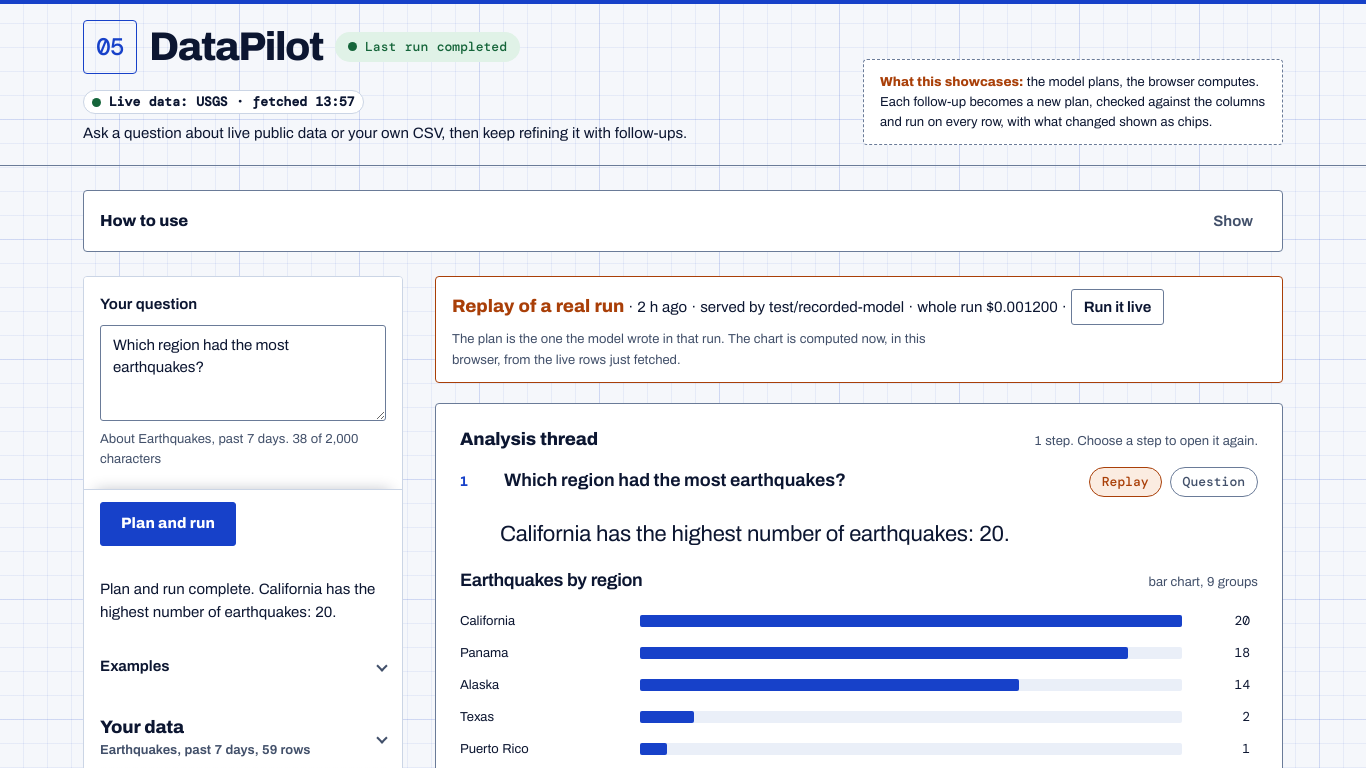
it: the load-time replay › Run it live clears the replay and makes a real request
Click the button "Run it live". click: (1118, 307)
box: [1071, 289, 1164, 325]
(page scrolled)
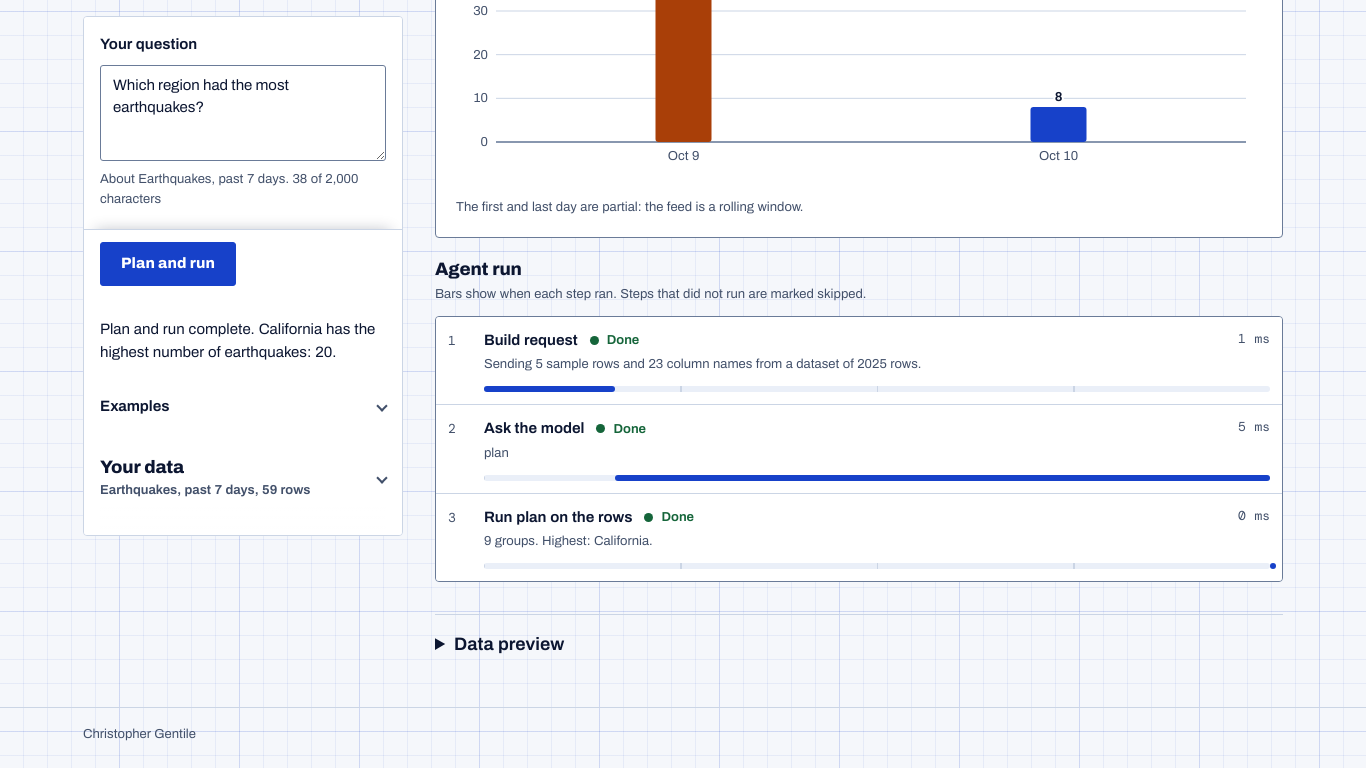
Expected: no elements with class "app-replay-tag" are shown
Expected: the list with class "ds-trace" shows "2025 rows", [484, 357, 921, 371]
